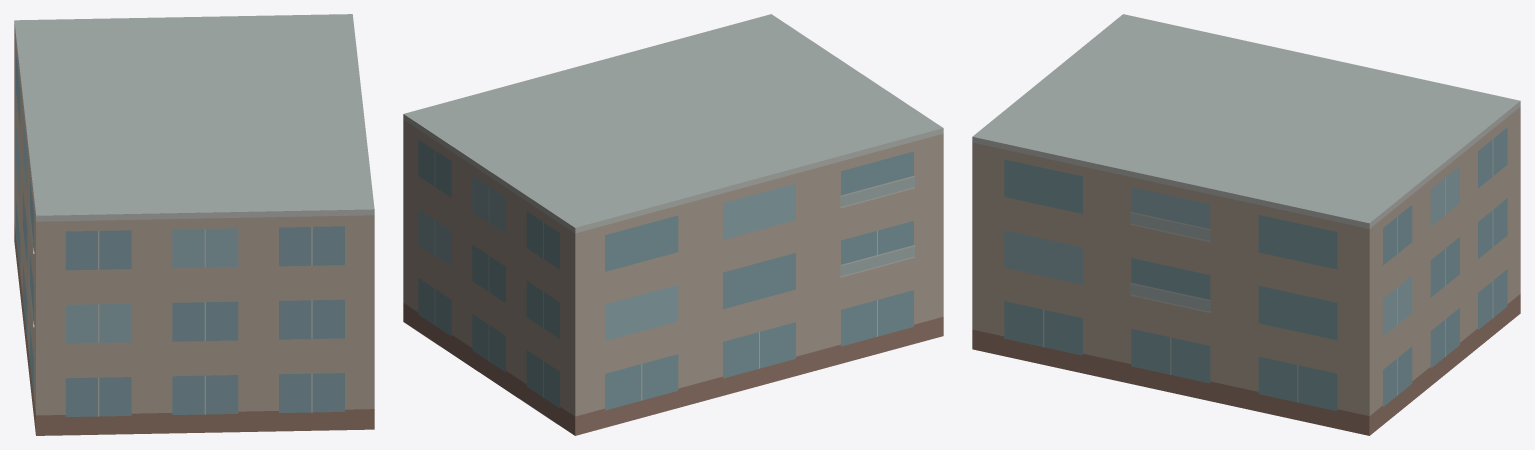
Rendered from survey-upis-32840412.glb.
The picture shows the model from 3 angles, left to right: view 1: azimuth 30°, elevation 25°; view 2: azimuth 150°, elevation 25°; view 3: azimuth 270°, elevation 25°; orthographic projection. The views are drawn at different scales.
Parts seen in each view (by area): view 1: survey-upis-32840412.tmp; view 2: survey-upis-32840412.tmp; view 3: survey-upis-32840412.tmp.
Part boxes in pixels (x1,y1,x2,y2): survey-upis-32840412.tmp: [14, 14, 374, 435]; survey-upis-32840412.tmp: [403, 14, 943, 435]; survey-upis-32840412.tmp: [972, 14, 1520, 435].
Size of the model in its own units: 19.33 by 9.15 by 21.4.
